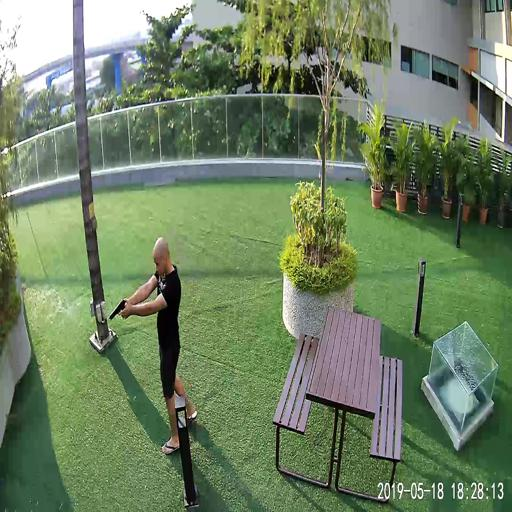pistol: (109, 297, 129, 320)
